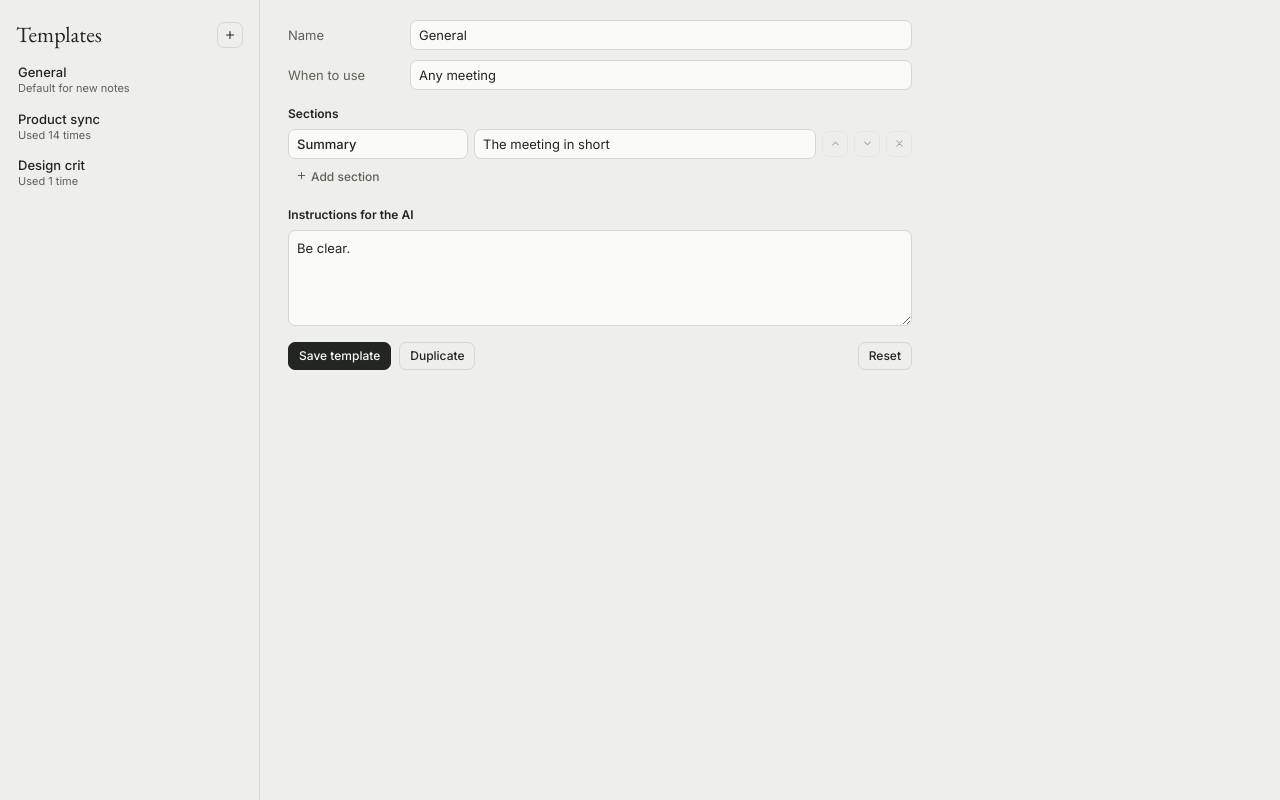
Test case: TemplatesScreen › hint_without_name_names_every_row
Click the button "Product sync Used 14 times": (130, 126) top-left (10, 104), bottom-right (249, 149)
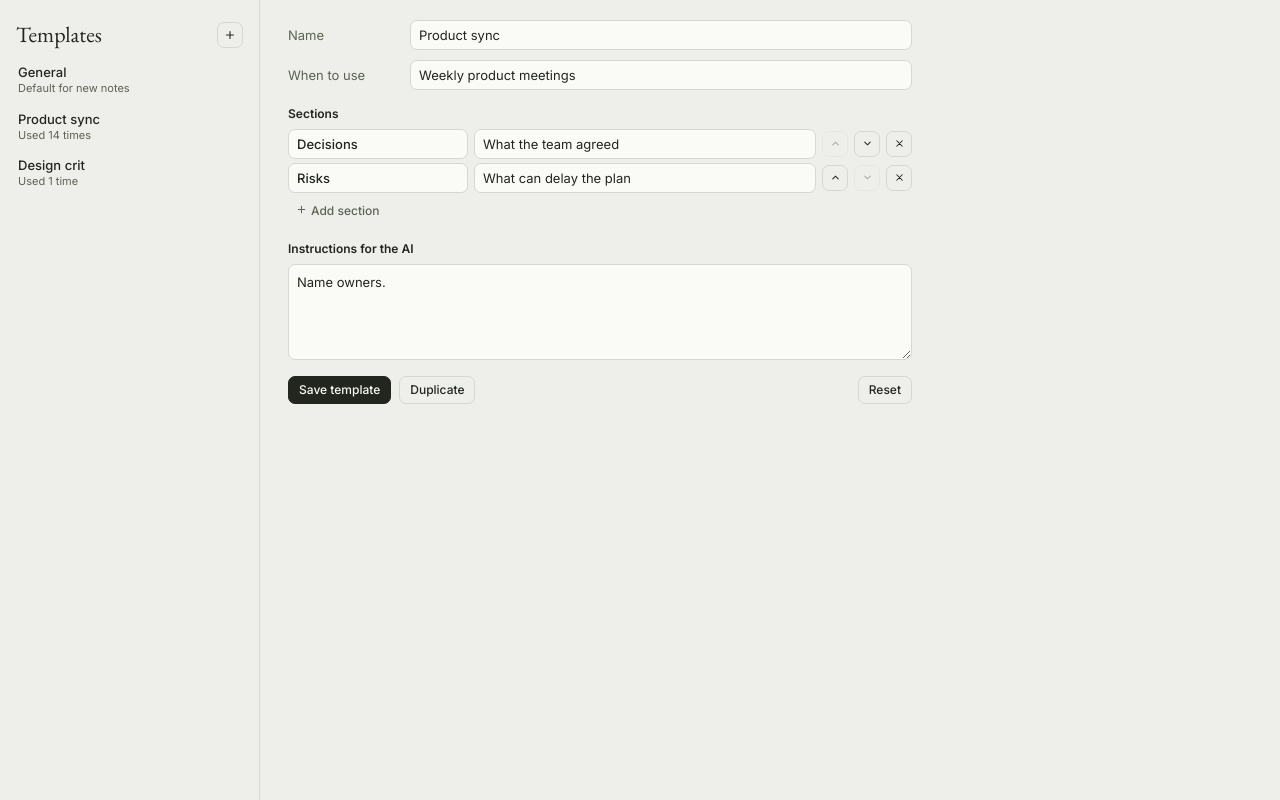
Click the button "Add section": (338, 211) top-left (288, 197), bottom-right (388, 225)
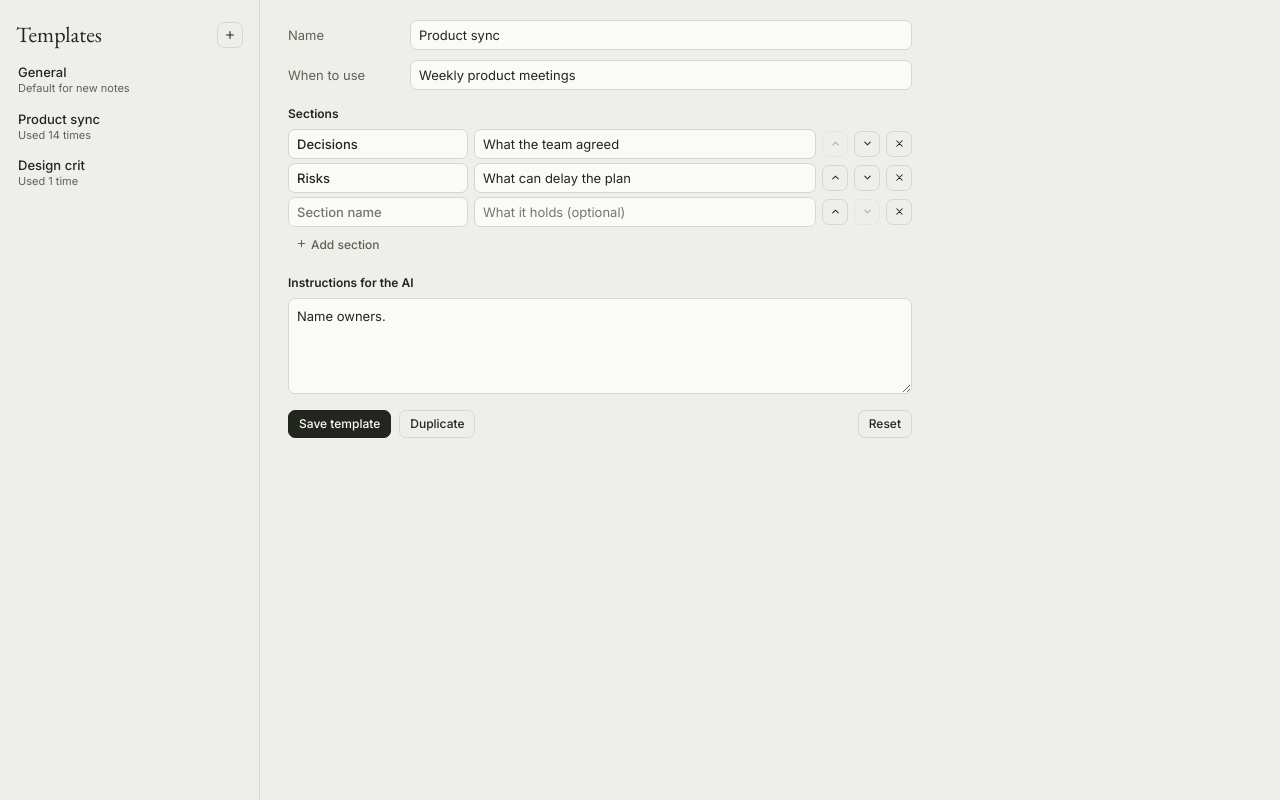
Click the button "Add section": (338, 245) top-left (288, 231), bottom-right (388, 259)
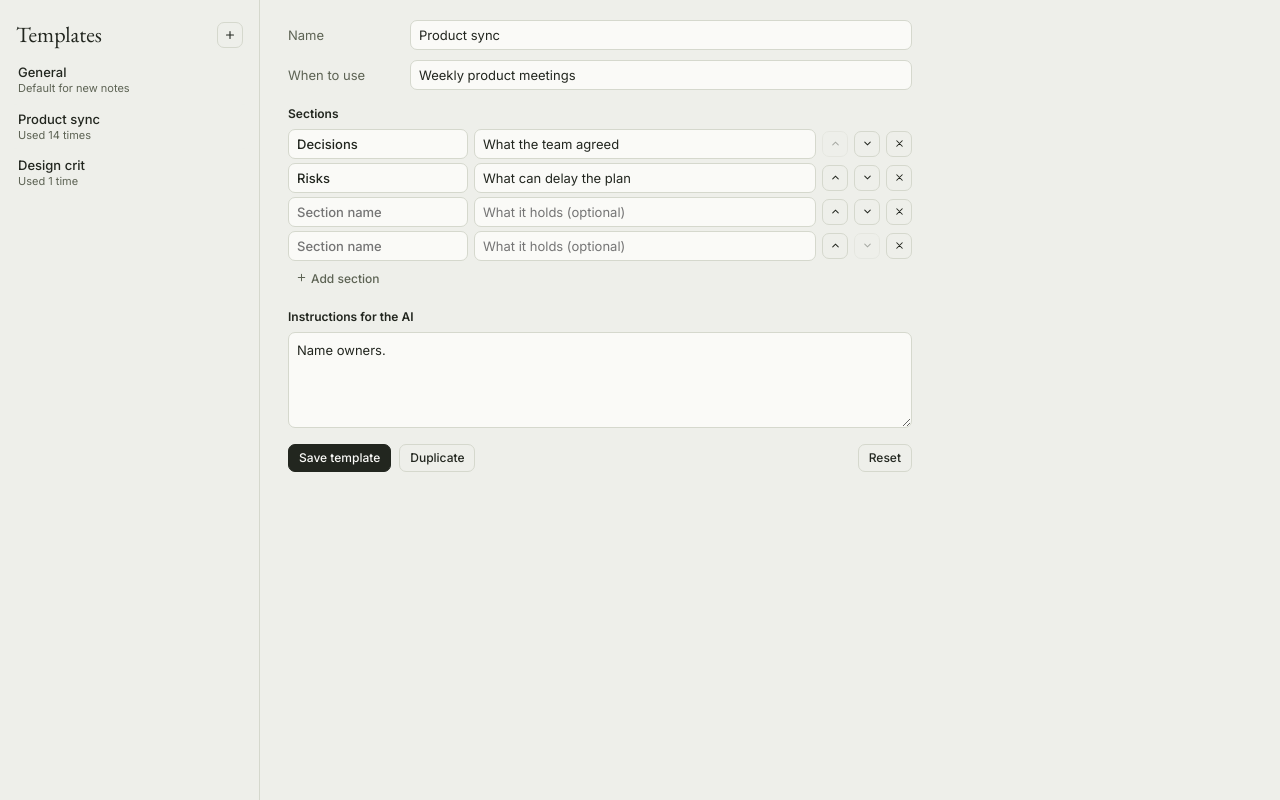
Clear the field named "Section 1 name": (378, 144) top-left (288, 129), bottom-right (468, 159)
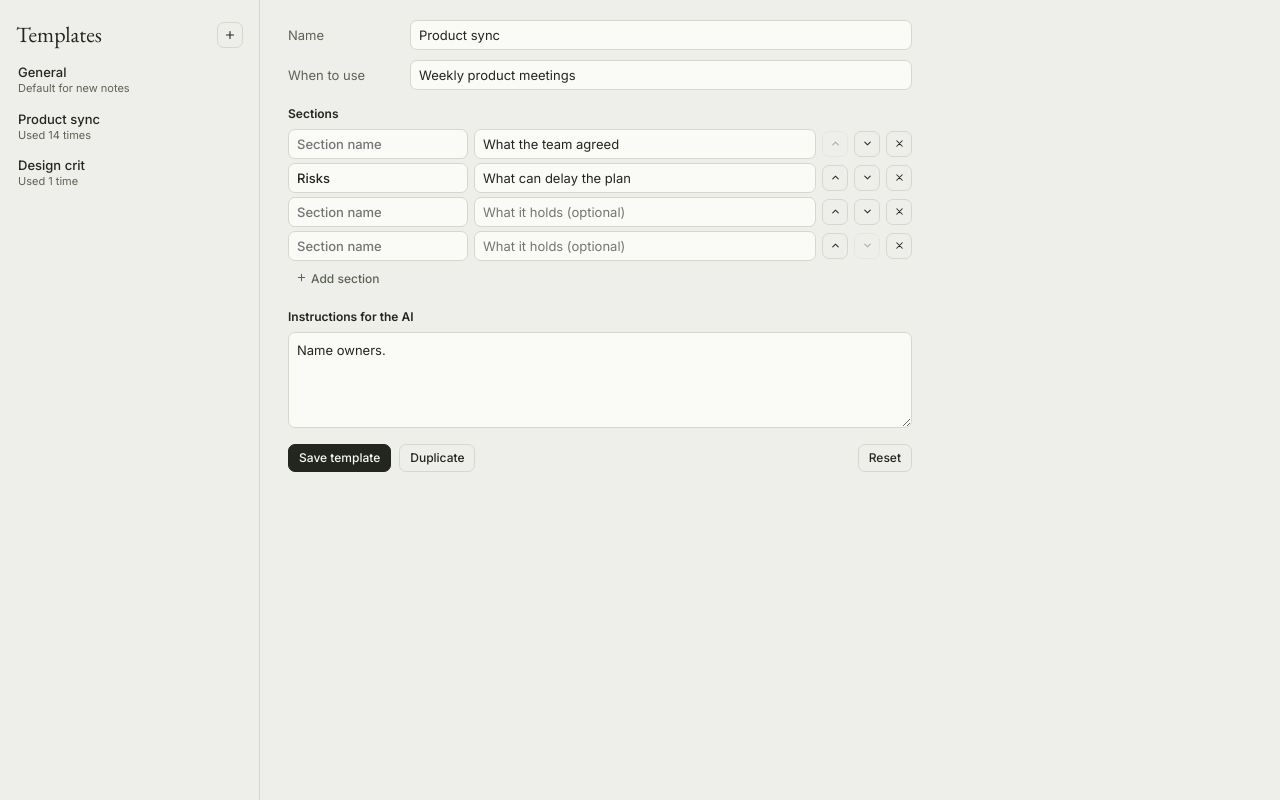
In the field named "Section 4 hint": (645, 246) top-left (474, 231), bottom-right (816, 261), type "Who does what"
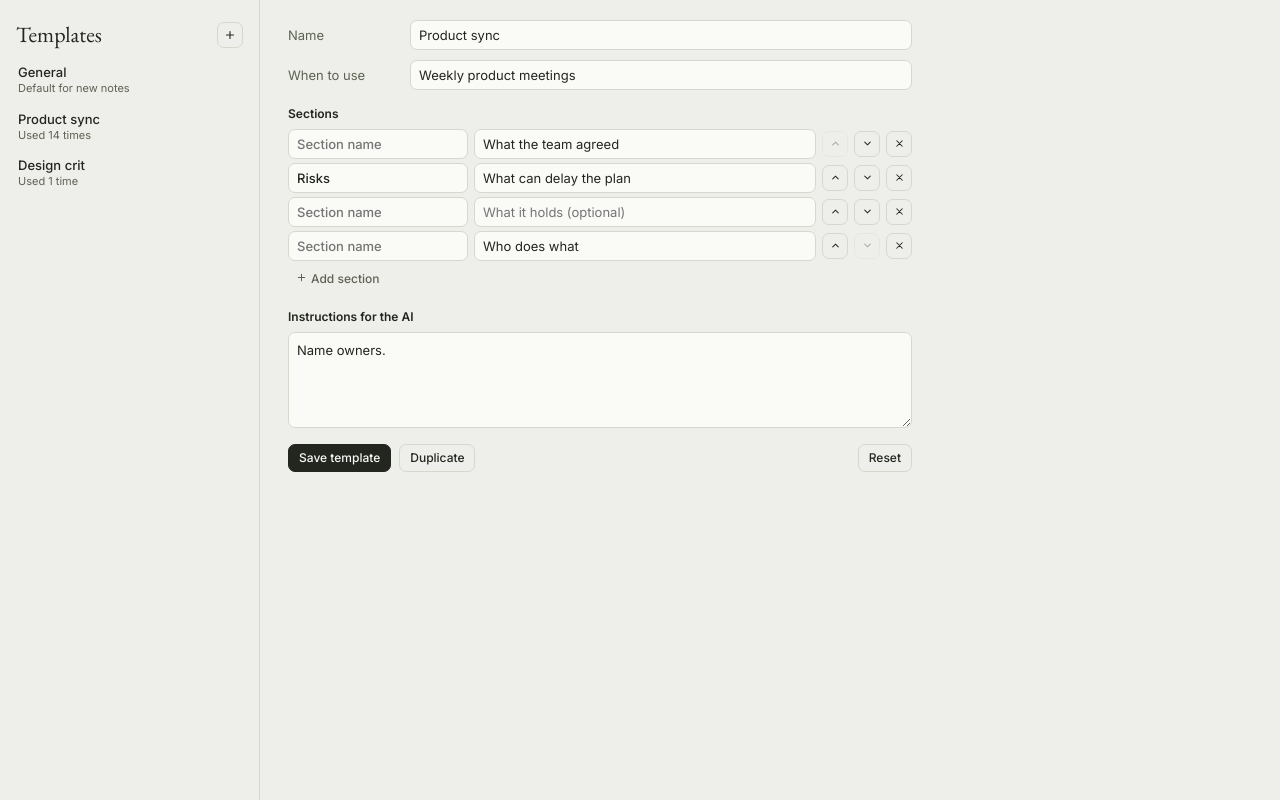
Click the button "Save template": (340, 458) top-left (288, 444), bottom-right (391, 472)
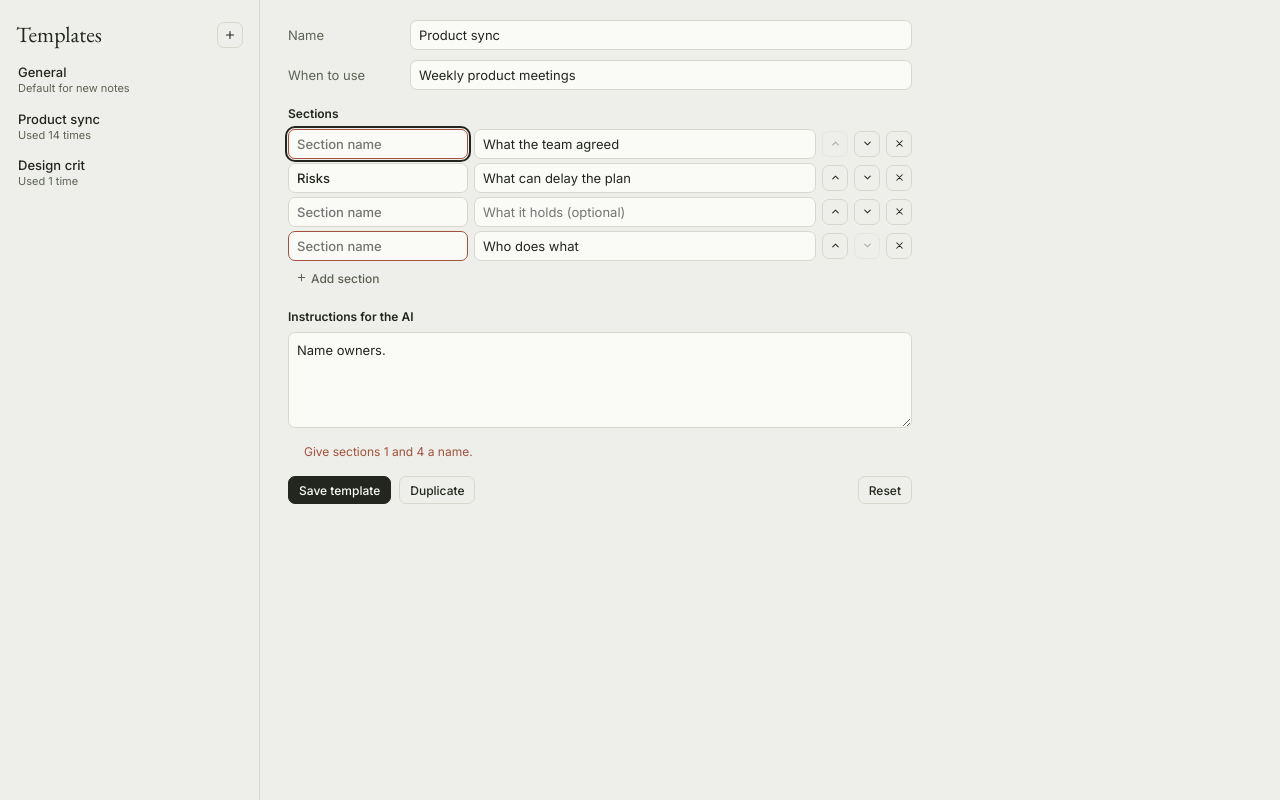
expect the message reads "Give sections 1 and 4 a name.": met, box top-left (304, 444), bottom-right (473, 459)
